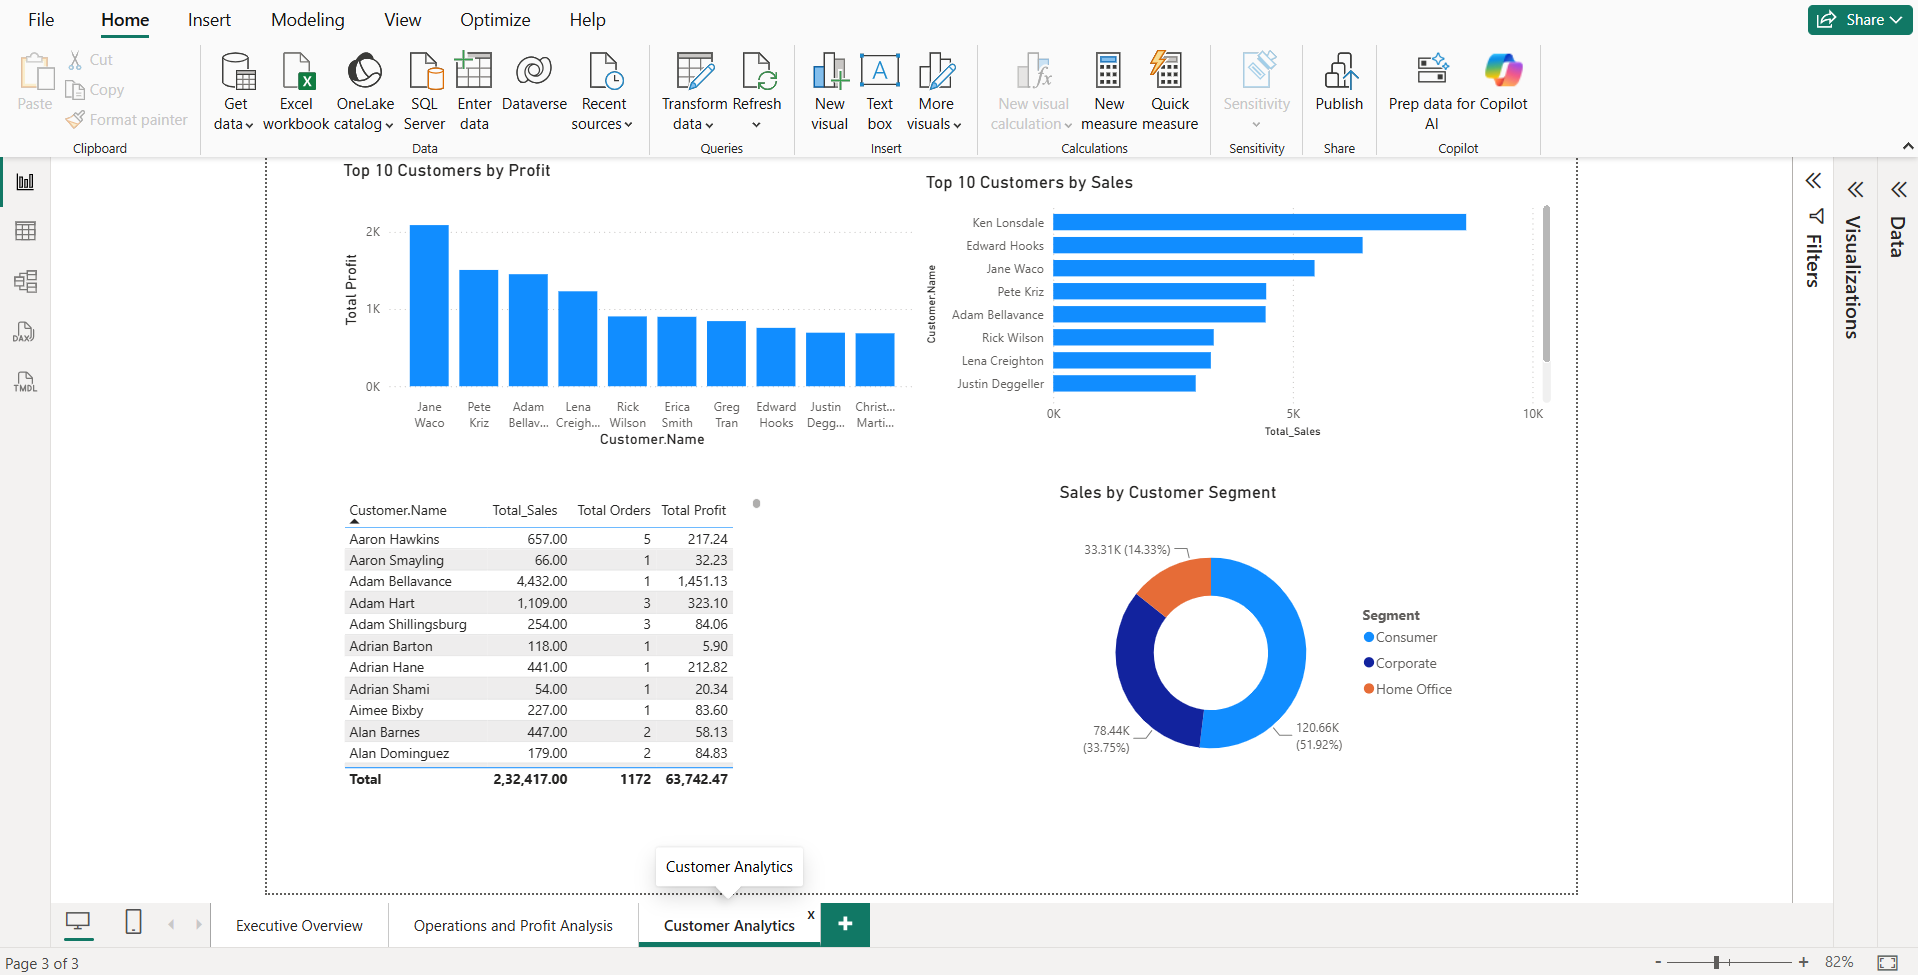

The dashboard page shown, as its layout file describes it:
{"tool":"powerbi","page":{"name":"Customer Analytics","canvas":[1280,720],"ordinal":2},"visuals":[{"type":"tableEx","fields":{"Values":["superstore (3).Customer.Name","superstore (3).Total_Sales","superstore (3).Total Orders","superstore (3).Total Profit"]},"box":[70,329.3,418.5,293.7],"z":0},{"type":"donutChart","title":"Sales by Customer Segment","fields":{"Category":["superstore (3).Segment"],"Y":["superstore (3).Total_Sales"]},"box":[769.8,318.4,403.4,315.6],"z":1},{"type":"barChart","title":"Top 10 Customers by Sales","fields":{"Category":["superstore (3).Customer.Name"],"Y":["superstore (3).Total_Sales"]},"box":[639.5,15.1,621.6,264.8],"z":2},{"type":"clusteredColumnChart","title":"Top 10 Customers by Profit","fields":{"Category":["superstore (3).Customer.Name"],"Y":["superstore (3).Total Profit"]},"box":[70,2.7,569.5,286.8],"z":3}]}

Visuals, with their boxes on the page's 1280x720 design canvas (x1, y1, x2, y2). These are canvas units, not pixel positions in the 1918x975 screenshot, which may show the page scaled, cropped or inside an application window:
tableEx - superstore (3).Customer.Name x superstore (3).Total_Sales: x1=70, y1=329, x2=488, y2=623
"Sales by Customer Segment" donutChart: x1=770, y1=318, x2=1173, y2=634
"Top 10 Customers by Sales" barChart: x1=640, y1=15, x2=1261, y2=280
"Top 10 Customers by Profit" clusteredColumnChart: x1=70, y1=3, x2=640, y2=290
